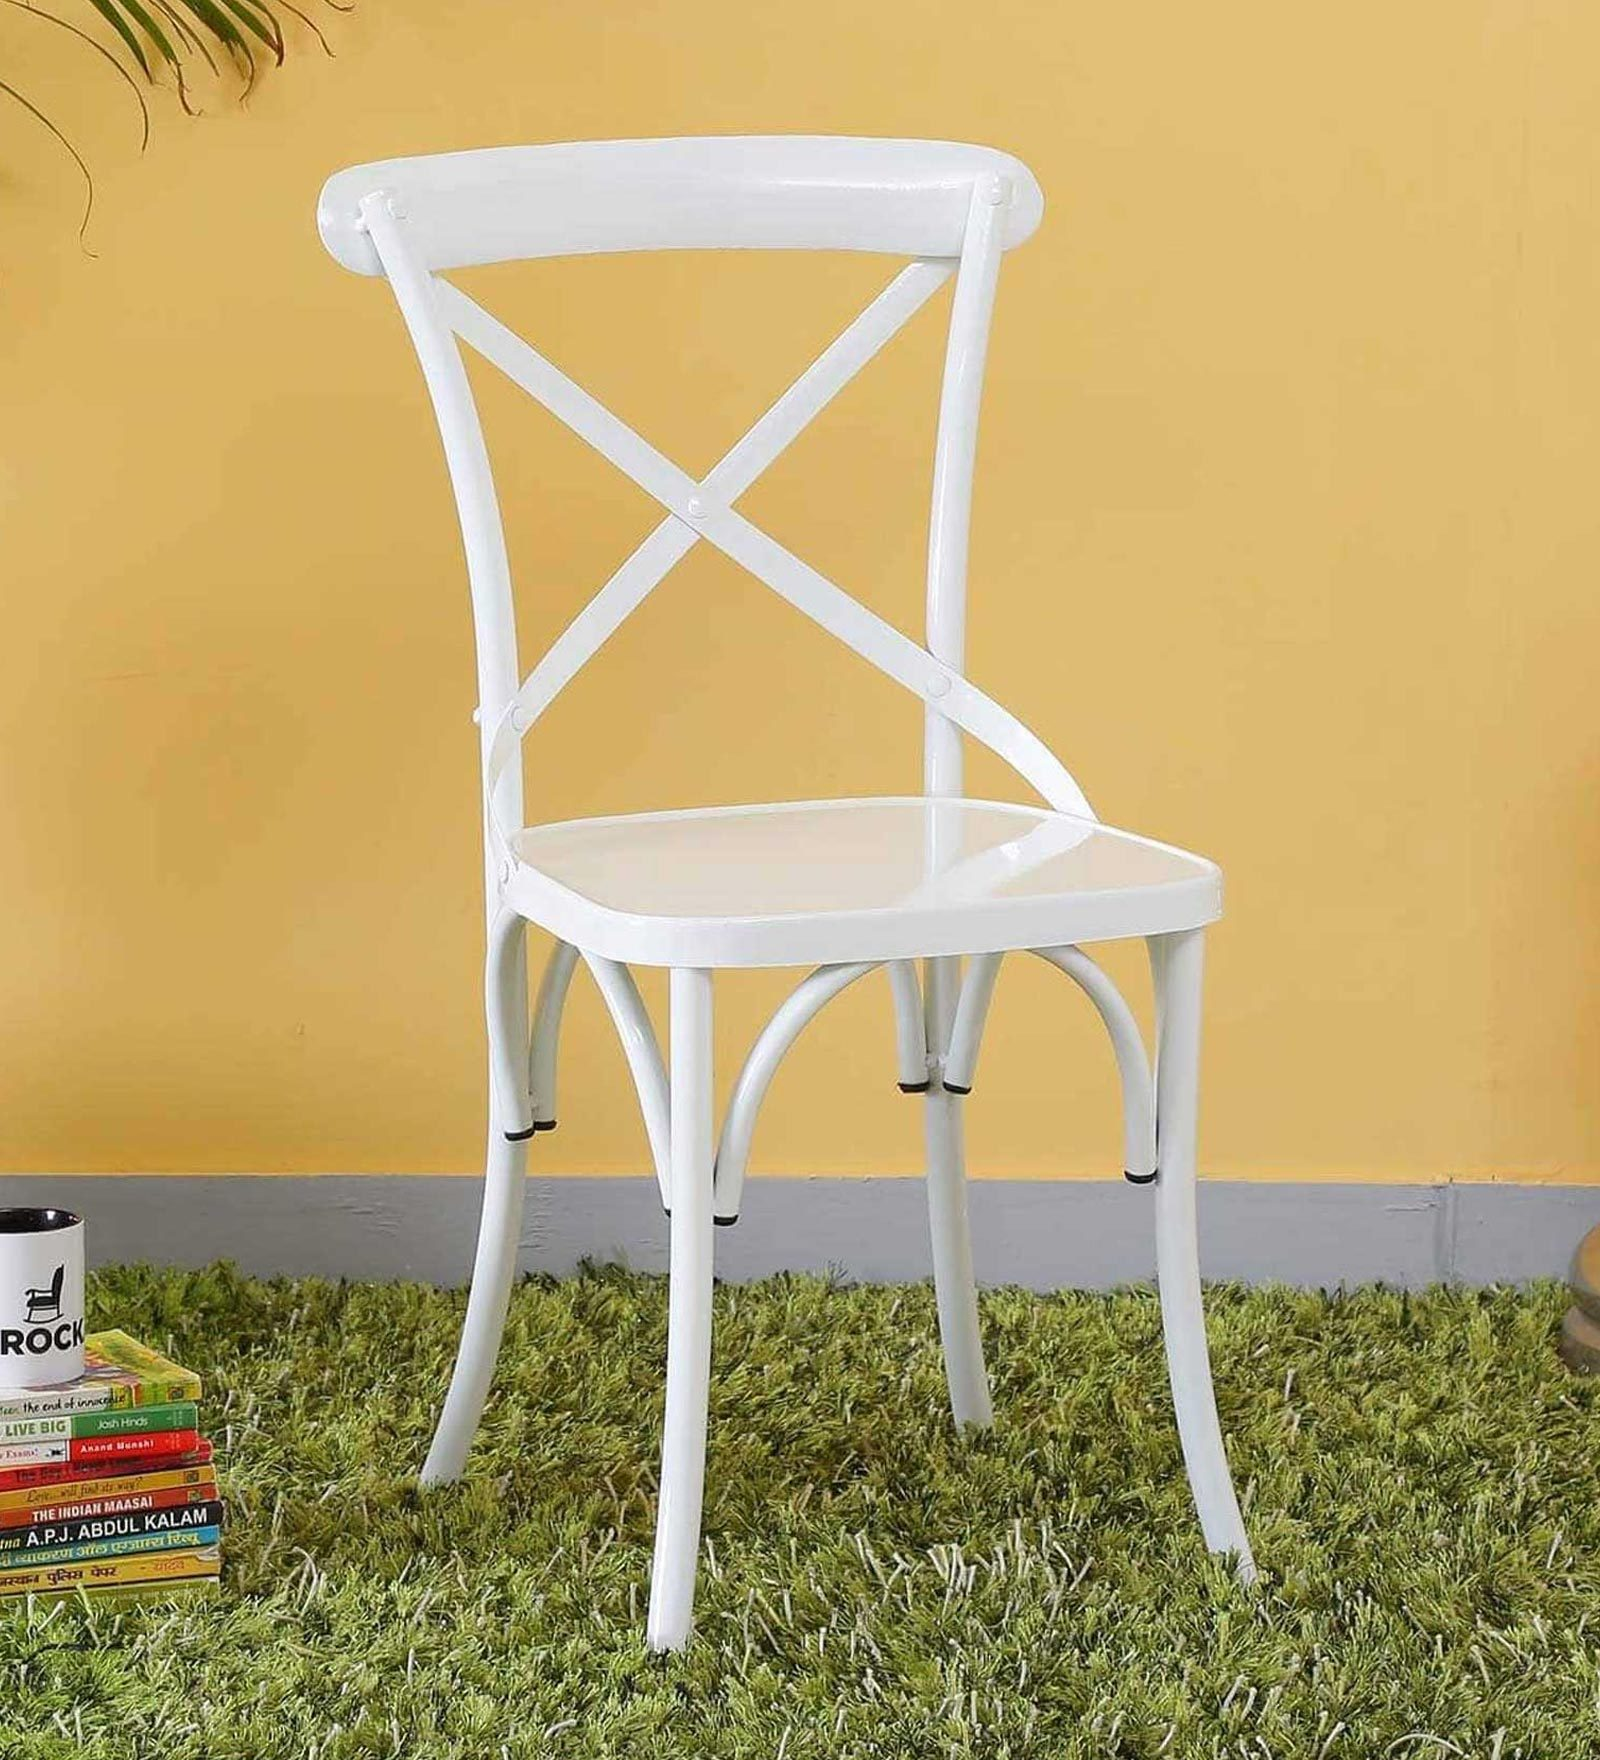Fabian Metal Chair in White Color by Bohemiana: (290, 115, 1355, 1702)
